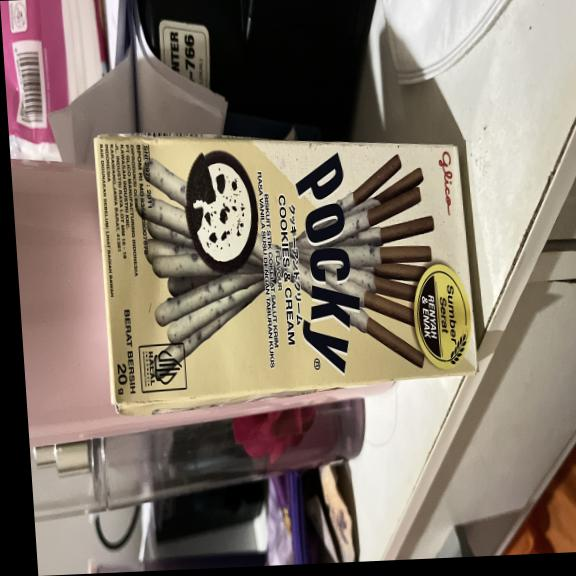Kertas: (93, 133, 479, 415)
